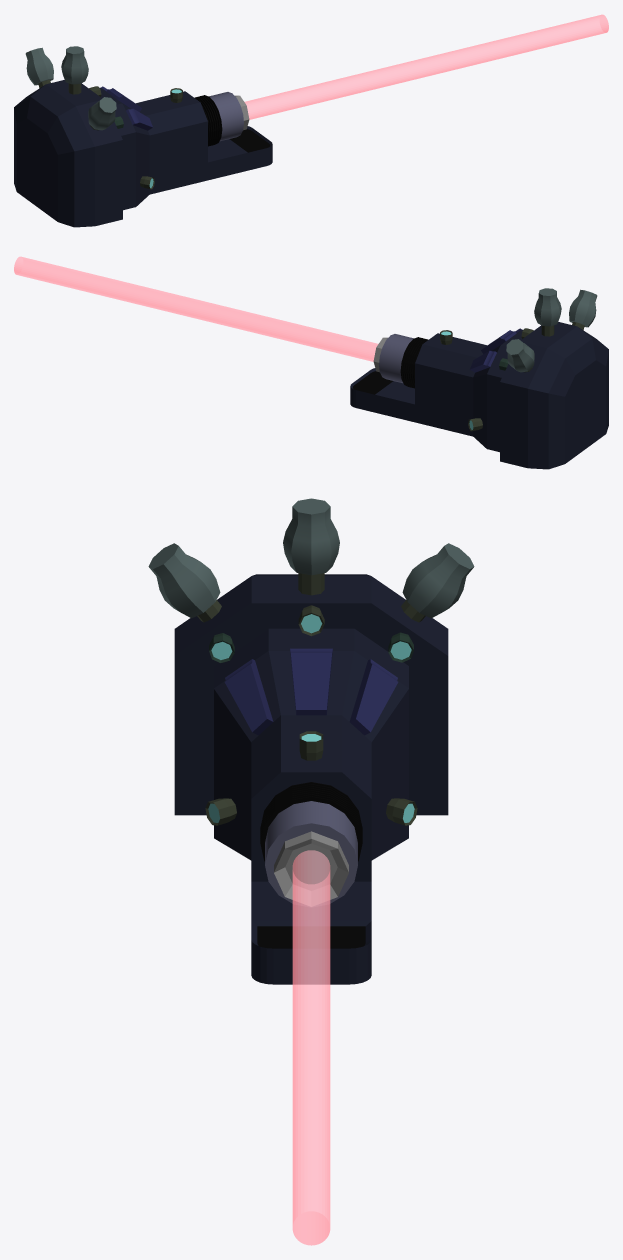
Rendered from LaserMachine.fbx.
3 renders of one model, top to bottom at view 1: azimuth 30°, elevation 25°; view 2: azimuth 150°, elevation 25°; view 3: azimuth 270°, elevation 25°, orthographic. The views are drawn at different scales.
Parts seen in each view (by area): view 1: Cube, Cylinder.019, Cylinder.001, Cylinder.003, Cylinder.018, Cylinder.017, Cylinder.002, Cube.001, Cube.003; view 2: Cube, Cylinder.019, Cylinder.001, Cylinder.003, Cylinder.017, Cylinder.018, Cylinder.002, Cube.001, Cube.003; view 3: Cube, Cylinder.019, Cube.003, Cylinder.001, Cylinder.003, Cylinder.017, Cylinder.018, Cylinder, Cube.001, Cylinder.002, Cylinder.016, Cylinder.008.
Part boxes in pixels (x1,y1,x2,y2): Cube: (14, 79, 272, 227); Cylinder.019: (244, 14, 608, 119); Cylinder.001: (209, 92, 243, 141); Cylinder.003: (61, 46, 88, 84); Cylinder.018: (25, 47, 53, 85); Cylinder.017: (88, 97, 116, 130); Cylinder.002: (194, 95, 222, 146); Cube.001: (230, 129, 269, 152); Cube.003: (99, 86, 152, 130); Cube: (350, 321, 608, 469); Cylinder.019: (14, 256, 378, 361); Cylinder.001: (379, 334, 413, 383); Cylinder.003: (534, 288, 561, 326); Cylinder.017: (569, 289, 597, 327); Cylinder.018: (506, 339, 534, 372); Cylinder.002: (400, 337, 428, 388); Cube.001: (353, 371, 392, 394); Cube.003: (470, 328, 523, 372); Cube: (174, 574, 448, 984); Cylinder.019: (292, 850, 330, 1245); Cube.003: (224, 649, 398, 735); Cylinder.001: (265, 801, 357, 907); Cylinder.003: (283, 498, 339, 575); Cylinder.017: (148, 543, 220, 618); Cylinder.018: (402, 543, 474, 618); Cylinder: (274, 831, 348, 906); Cube.001: (257, 926, 365, 948); Cylinder.002: (260, 782, 362, 861); Cylinder.016: (285, 843, 337, 890); Cylinder.008: (205, 798, 417, 825).
Bounding box in the file's own units: 9902 × 2470 × 2466.
